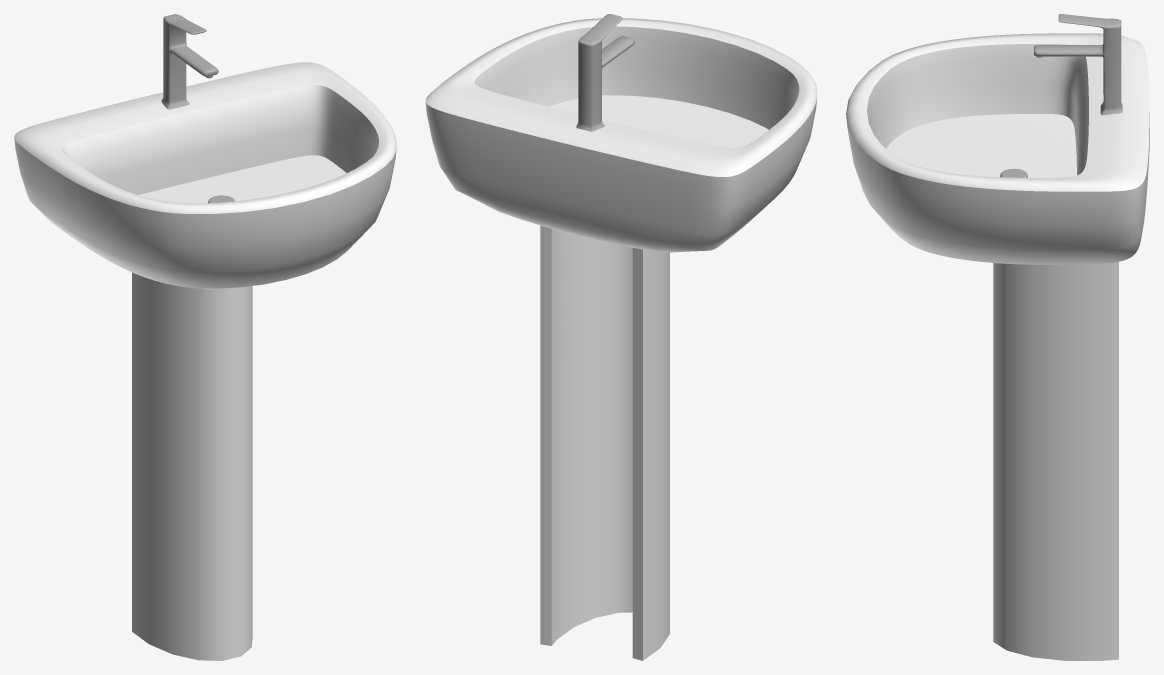
File: Sink.fbx
The picture shows the model from 3 angles, left to right: view 1: azimuth 30°, elevation 25°; view 2: azimuth 150°, elevation 25°; view 3: azimuth 270°, elevation 25°; orthographic projection. The views are drawn at different scales.
Parts seen in each view (by area): view 1: Sink; view 2: Sink; view 3: Sink.
Part boxes in pixels (x1,y1,x2,y2): Sink: (14, 14, 396, 660); Sink: (425, 14, 817, 660); Sink: (846, 14, 1149, 660).
Bounding box in the file's own units: 56.64 × 105 × 46.85.
1 material, 1 textured.
